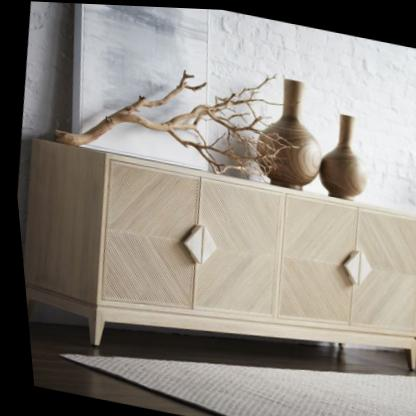Sideboard: (18, 139, 416, 367)
